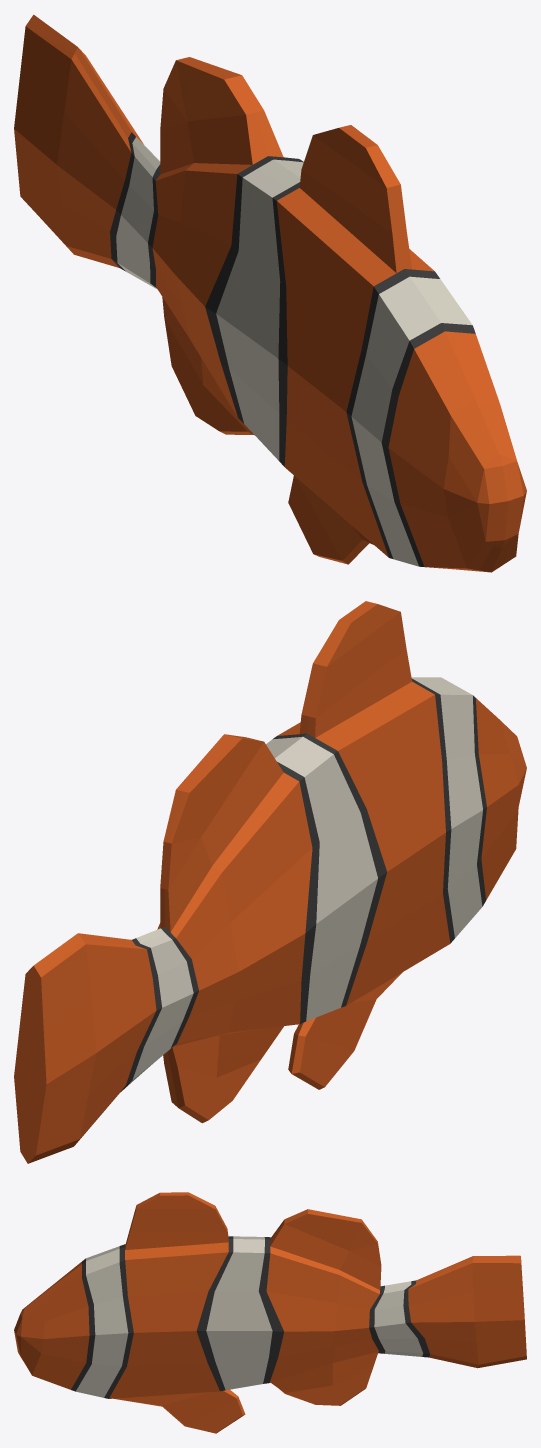
File: q_clownfish.fbx
The picture shows the model from 3 angles, top to bottom: view 1: azimuth 30°, elevation 25°; view 2: azimuth 150°, elevation 25°; view 3: azimuth 270°, elevation 25°; orthographic projection. The views are drawn at different scales.
Visible parts, largest first — view 1: q_clownfish; view 2: q_clownfish; view 3: q_clownfish.
Part boxes in pixels (x1,y1,x2,y2): q_clownfish: (14, 14, 526, 572); q_clownfish: (14, 601, 526, 1163); q_clownfish: (14, 1192, 526, 1433).
Size of the model in its own units: 0.1219 by 0.5158 by 1.
